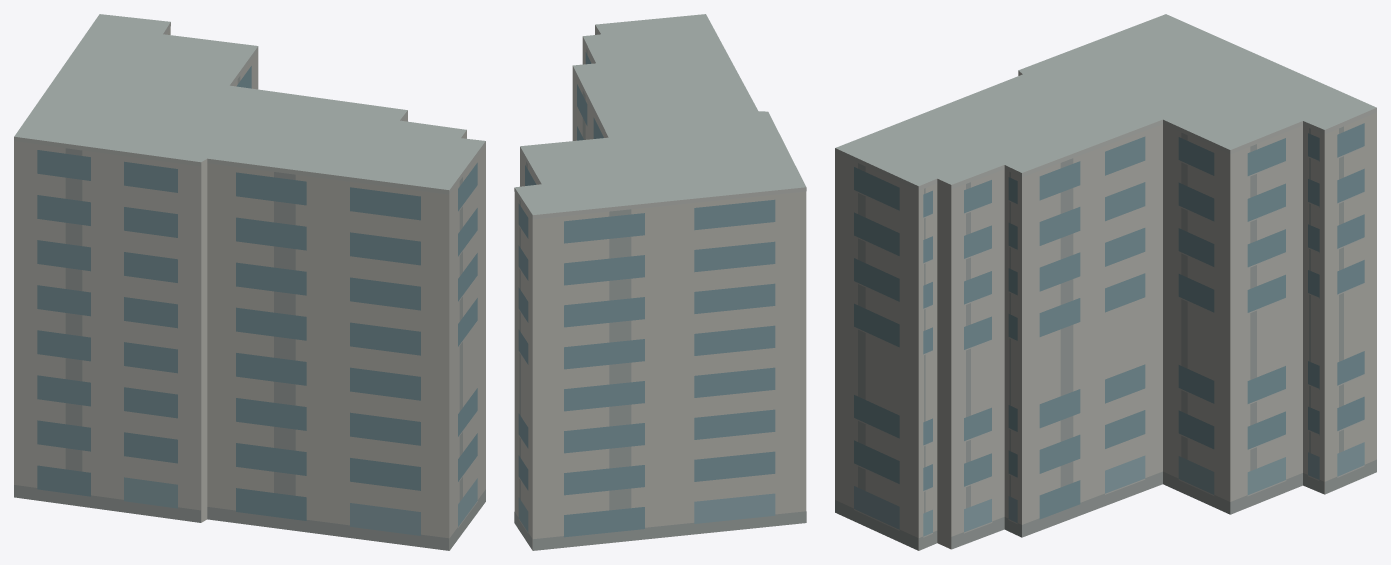
File: survey-upis-32802144.glb
3 renders of one model, left to right at view 1: azimuth 30°, elevation 25°; view 2: azimuth 150°, elevation 25°; view 3: azimuth 270°, elevation 25°, orthographic. The views are drawn at different scales.
Visible parts, largest first — view 1: survey-upis-32802144.tmp; view 2: survey-upis-32802144.tmp; view 3: survey-upis-32802144.tmp.
Boxes of the visible parts, x1,y1,x2,y2 form: survey-upis-32802144.tmp: (14,14,485,550); survey-upis-32802144.tmp: (514,14,806,550); survey-upis-32802144.tmp: (835,14,1376,550).
Size of the model in its own units: 19.78 by 19.5 by 26.27.
